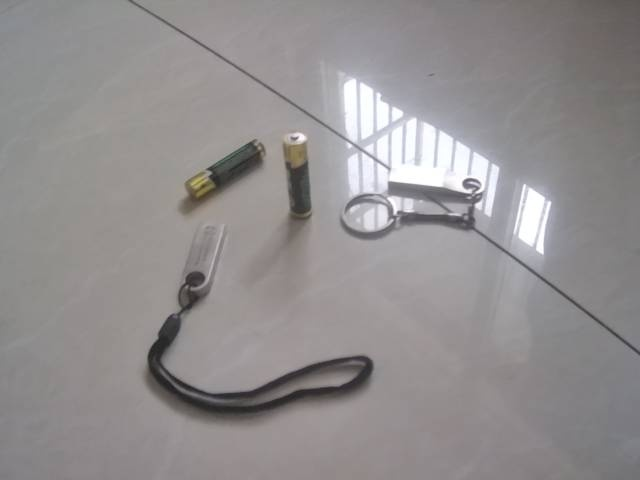U-disk: (157, 221, 244, 417), (343, 159, 490, 249)
battery: (178, 135, 270, 201), (277, 126, 320, 225)
